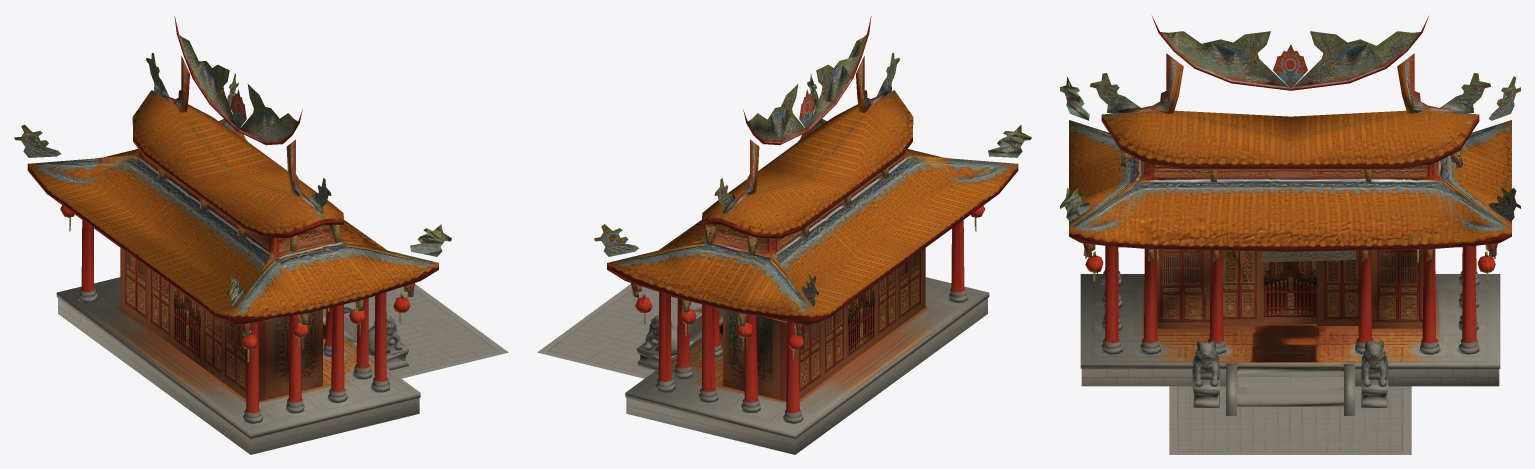
Rendered from temple.glb.
3 renders of one model, left to right at view 1: azimuth 30°, elevation 25°; view 2: azimuth 150°, elevation 25°; view 3: azimuth 270°, elevation 25°, orthographic. The views are drawn at different scales.
Visible parts, largest first — view 1: tripo_node_4fff22ba-9a9c-4b2e-b04f-c5caef41ccaf; view 2: tripo_node_4fff22ba-9a9c-4b2e-b04f-c5caef41ccaf; view 3: tripo_node_4fff22ba-9a9c-4b2e-b04f-c5caef41ccaf.
Boxes of the visible parts, box(x1,y1,x2,y2) form: tripo_node_4fff22ba-9a9c-4b2e-b04f-c5caef41ccaf: box(14, 16, 508, 454); tripo_node_4fff22ba-9a9c-4b2e-b04f-c5caef41ccaf: box(537, 16, 1031, 454); tripo_node_4fff22ba-9a9c-4b2e-b04f-c5caef41ccaf: box(1060, 16, 1520, 454).
Size of the model in its own units: 0.9004 by 0.7832 by 0.998.
1 material, 1 textured.
